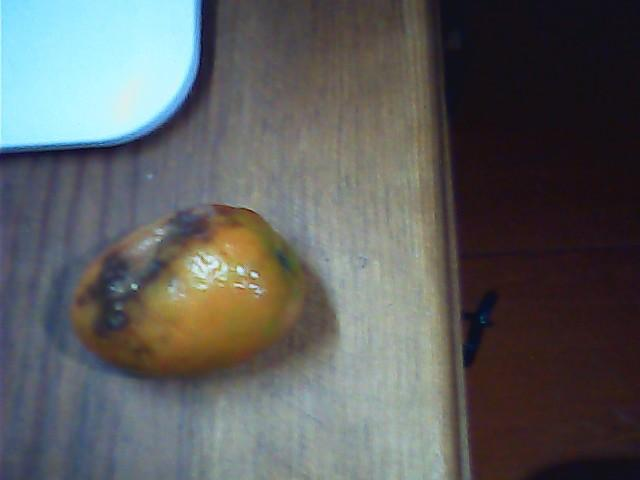defectuoso: (71, 206, 299, 375)
